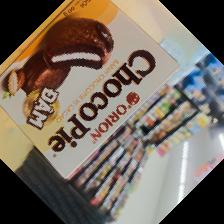Chocopie_cacao: (1, 1, 180, 181)
